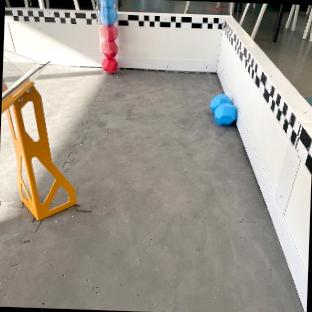Goal: (1, 62, 76, 220)
V5_BLUE: (210, 93, 237, 125)
V5_RED: (100, 24, 118, 72)
